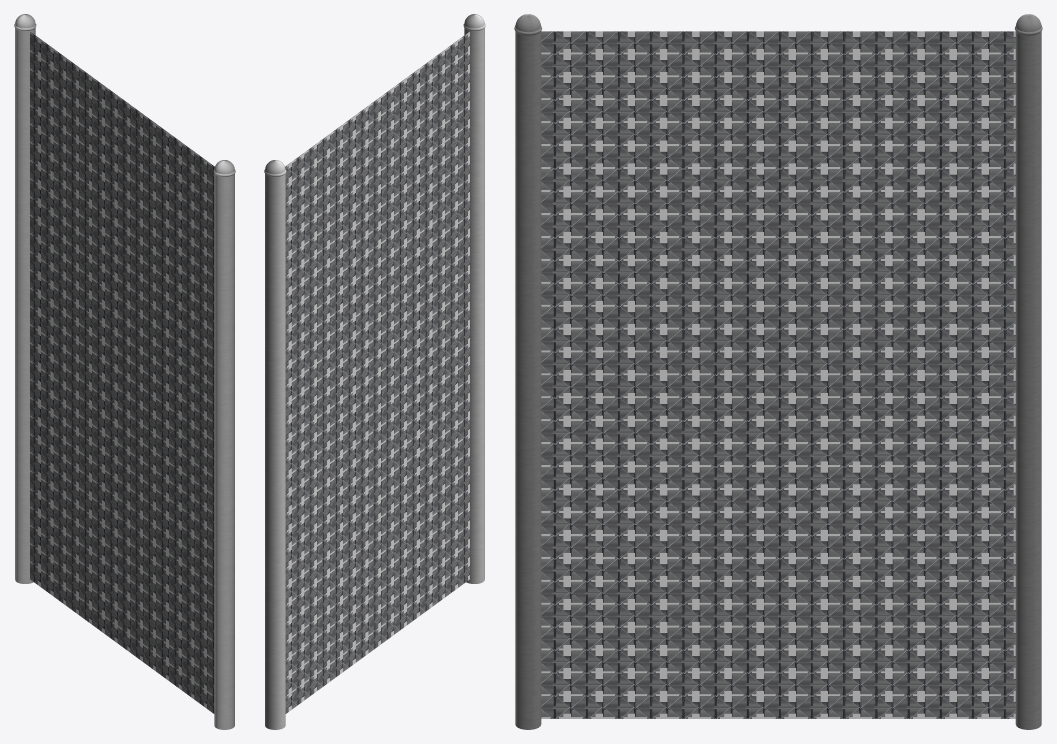
File: FenceV4.fbx
3 renders of one model, left to right at view 1: azimuth 30°, elevation 25°; view 2: azimuth 150°, elevation 25°; view 3: azimuth 270°, elevation 25°, orthographic. The views are drawn at different scales.
Visible parts, largest first — view 1: pPlane2, pSphere4, pSphere3; view 2: pPlane2, pSphere3, pSphere4; view 3: pPlane1, pSphere3, pSphere4.
Part boxes in pixels (left/top/right/bottom): pPlane2: left=30, top=32, right=214, bottom=713; pSphere4: left=213, top=160, right=235, bottom=729; pSphere3: left=14, top=14, right=36, bottom=583; pPlane2: left=285, top=32, right=469, bottom=713; pSphere3: left=264, top=160, right=286, bottom=729; pSphere4: left=463, top=14, right=485, bottom=583; pPlane1: left=541, top=31, right=1015, bottom=718; pSphere3: left=1014, top=14, right=1042, bottom=729; pSphere4: left=514, top=14, right=542, bottom=729.
Size of the model in its own units: 11.42 by 319 by 215.
